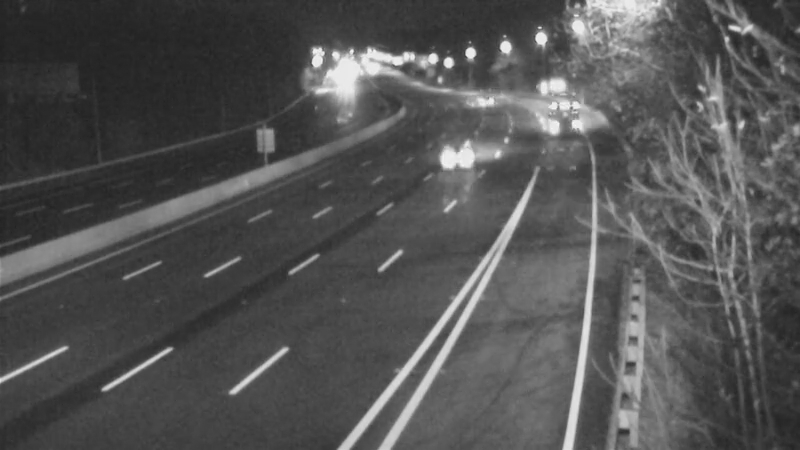vehicle: (412, 118, 492, 198), (456, 78, 506, 128), (523, 82, 573, 132)
